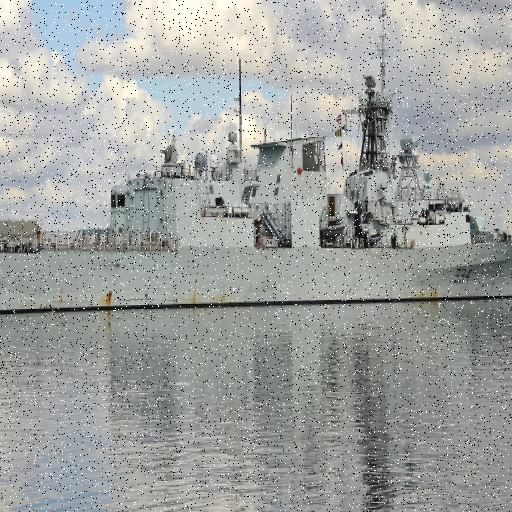Fragata: (1, 5, 512, 323)
